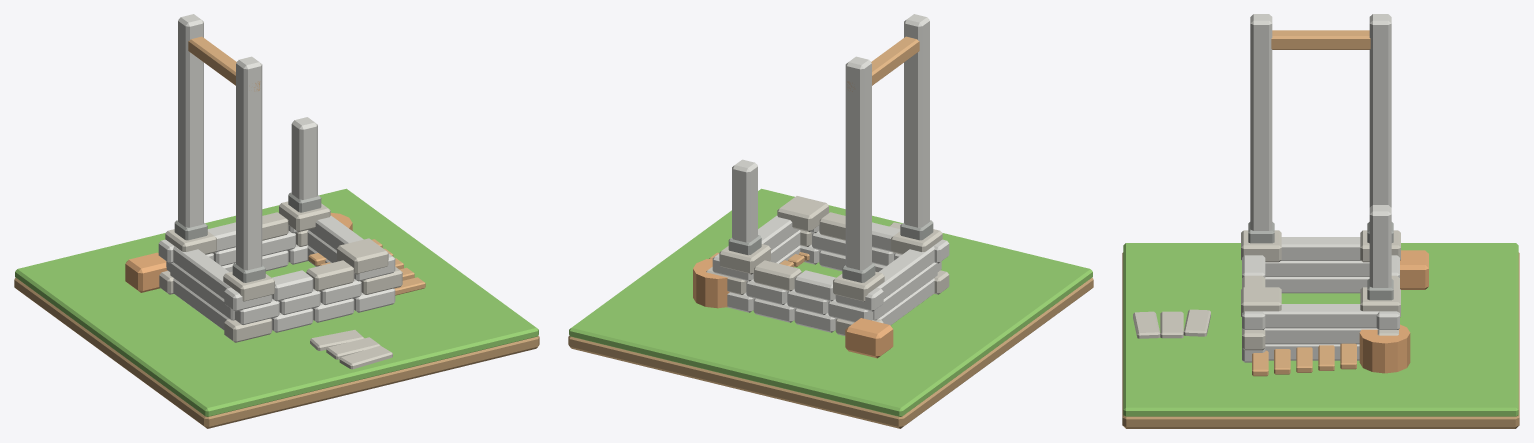
The model's file is tower_l05_construction.glb.
3 renders of one model, left to right at view 1: azimuth 30°, elevation 25°; view 2: azimuth 150°, elevation 25°; view 3: azimuth 270°, elevation 25°, orthographic. The views are drawn at different scales.
Parts seen in each view (by area): view 1: tower_l05_grass_tile, tower_l05_earth_tile, post_-0.61_-0.54, post_-0.61_0.54, post_0.61_0.54, stone_return_2_-0.72, foot_0.61_-0.54, unmounted_instrument_case, temporary_crossbar, stone_course_2_-1_2, stone_return_1_-0.72, stone_return_2_0.72 (+20 smaller); view 2: tower_l05_grass_tile, tower_l05_earth_tile, post_-0.61_0.54, post_-0.61_-0.54, post_0.61_0.54, unmounted_instrument_case, stone_return_2_-0.72, unmounted_relay_drum, foot_0.61_-0.54, temporary_crossbar, stone_course_2_1_2, stone_return_1_-0.72 (+15 smaller); view 3: tower_l05_grass_tile, tower_l05_earth_tile, post_-0.61_-0.54, post_-0.61_0.54, stone_return_2_0.72, unmounted_relay_drum, temporary_crossbar, stone_return_2_-0.72, post_0.61_0.54, stone_return_1_-0.72, stone_return_1_0.72, stone_return_0_-0.72 (+20 smaller).
Part boxes in pixels (left/top/right/bottom): tower_l05_grass_tile: left=15, top=188, right=538, bottom=416; tower_l05_earth_tile: left=14, top=277, right=539, bottom=428; post_-0.61_-0.54: left=236, top=56, right=262, bottom=270; post_-0.61_0.54: left=178, top=14, right=203, bottom=227; post_0.61_0.54: left=291, top=117, right=317, bottom=199; stone_return_2_-0.72: left=173, top=246, right=231, bottom=298; foot_0.61_-0.54: left=337, top=238, right=388, bottom=274; unmounted_instrument_case: left=125, top=252, right=167, bottom=292; temporary_crossbar: left=188, top=36, right=260, bottom=91; stone_course_2_-1_2: left=306, top=260, right=354, bottom=291; stone_return_1_-0.72: left=170, top=262, right=234, bottom=320; stone_return_2_0.72: left=308, top=215, right=363, bottom=250; tower_l05_grass_tile: left=569, top=188, right=1092, bottom=416; tower_l05_earth_tile: left=568, top=277, right=1093, bottom=428; post_-0.61_0.54: left=845, top=56, right=871, bottom=270; post_-0.61_-0.54: left=904, top=14, right=929, bottom=227; post_0.61_0.54: left=732, top=159, right=757, bottom=242; unmounted_instrument_case: left=845, top=318, right=893, bottom=358; stone_return_2_-0.72: left=877, top=246, right=934, bottom=298; unmounted_relay_drum: left=693, top=258, right=729, bottom=308; foot_0.61_-0.54: left=777, top=196, right=828, bottom=231; temporary_crossbar: left=847, top=36, right=919, bottom=91; stone_course_2_1_2: left=753, top=260, right=801, bottom=291; stone_return_1_-0.72: left=873, top=262, right=937, bottom=320; tower_l05_grass_tile: left=1123, top=243, right=1518, bottom=416; tower_l05_earth_tile: left=1122, top=252, right=1519, bottom=428; post_-0.61_-0.54: left=1250, top=14, right=1272, bottom=230; post_-0.61_0.54: left=1369, top=14, right=1391, bottom=207; stone_return_2_0.72: left=1259, top=304, right=1382, bottom=328; unmounted_relay_drum: left=1359, top=324, right=1410, bottom=373; temporary_crossbar: left=1271, top=30, right=1370, bottom=49; stone_return_2_-0.72: left=1281, top=237, right=1360, bottom=260; post_0.61_0.54: left=1369, top=205, right=1391, bottom=287; stone_return_1_-0.72: left=1265, top=261, right=1369, bottom=276; stone_return_1_0.72: left=1264, top=328, right=1377, bottom=344; stone_return_0_-0.72: left=1265, top=277, right=1369, bottom=293.
Size of the model in its own units: 3.6 by 3.01 by 3.6.
